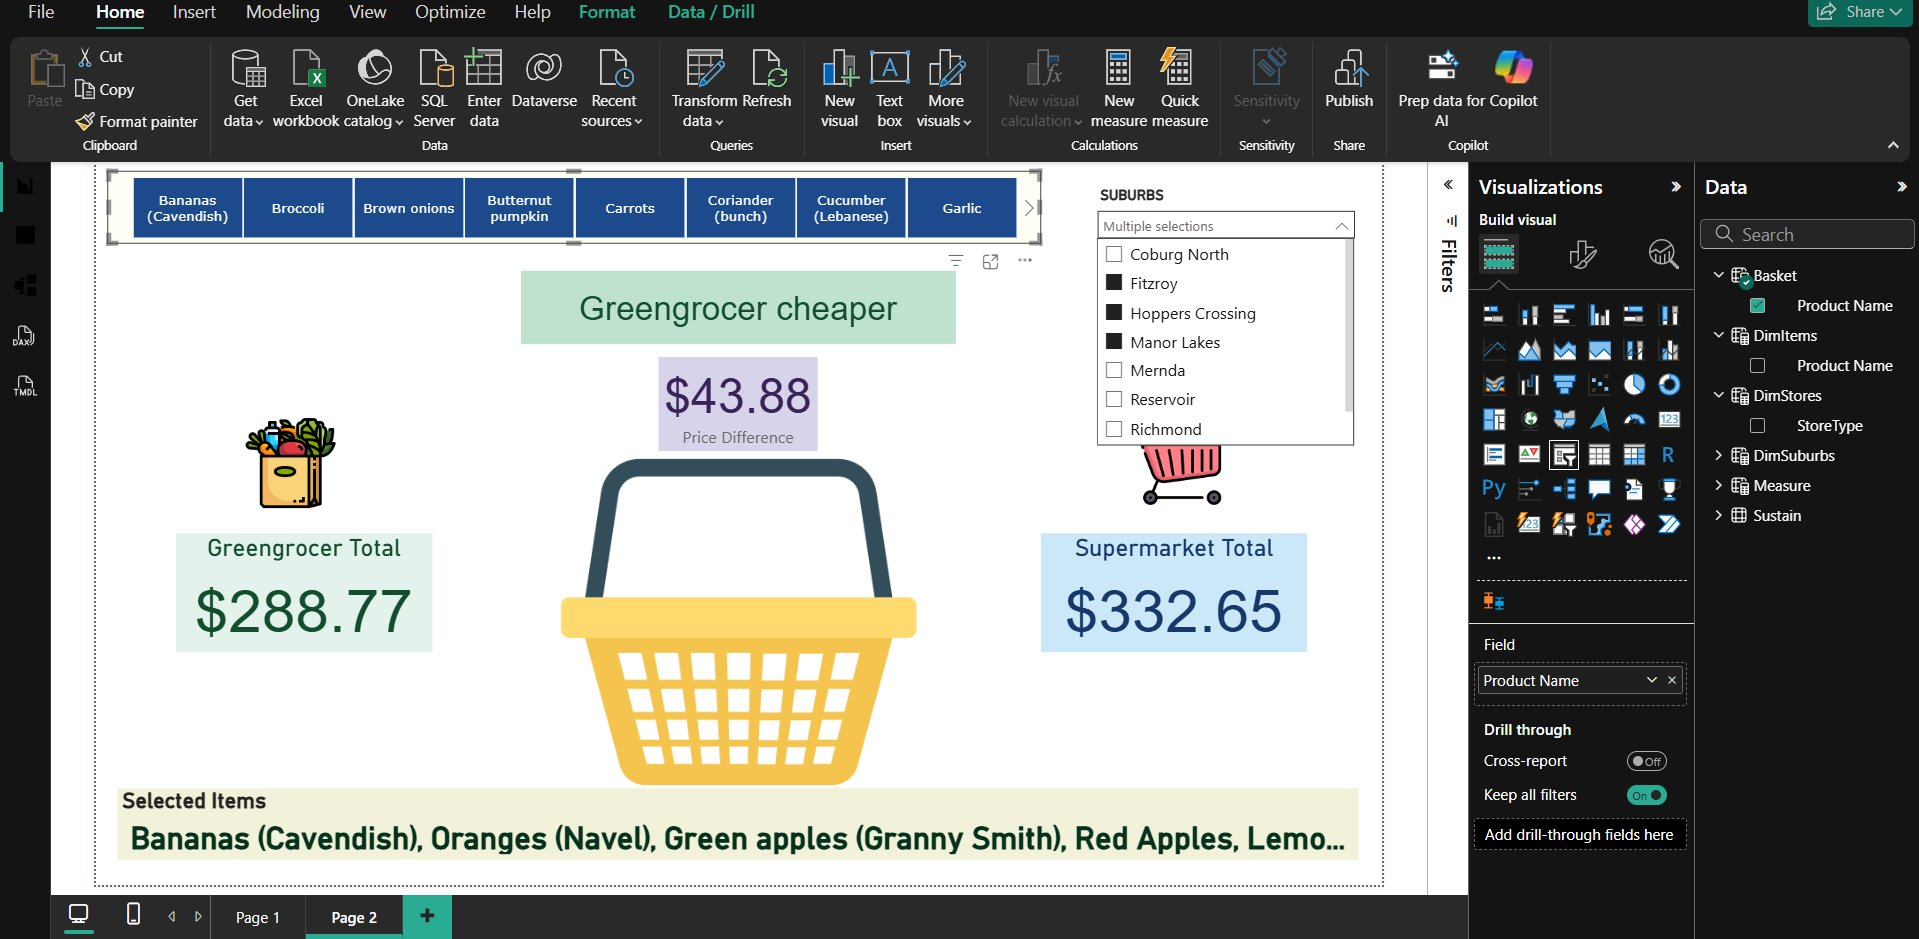

Layout of this report page (visuals, bound fields, positions):
{"tool":"powerbi","page":{"name":"Page 2","canvas":[1280,720],"ordinal":1},"visuals":[{"type":"image","box":[139.3,250,108.2,99.5],"z":0},{"type":"image","box":[1021.3,241.3,103.2,108.2],"z":1000},{"type":"slicer","fields":{"Values":["Basket.Product Name"]},"box":[11.2,8.8,928.8,73.8],"z":2000},{"type":"slicer","fields":{"Values":["DimSuburbs.Suburb"]},"box":[986.2,20,276.2,77.5],"z":3000},{"type":"card","title":"Greengrocer Total","fields":{"Values":["Measure.Basket Greengrocer"]},"box":[79.6,369.5,255,118.2],"z":4000},{"type":"card","title":"Supermarket Total","fields":{"Values":["Measure.Basket Supermarket"]},"box":[940.4,369.5,265,118.2],"z":5000},{"type":"card","fields":{"Values":["Measure.Basket Difference"]},"box":[560,193.8,158.8,93.8],"z":6000},{"type":"card","fields":{"Values":["Measure.Basket Cheaper Label"]},"box":[422.5,108.8,432.5,72.5],"z":7000},{"type":"card","title":"Selected Items","fields":{"Values":["Measure.Selected Items Label"]},"box":[21.1,623.2,1235.3,70.9],"z":8000},{"type":"image","box":[408.8,220,461.2,475],"z":9000}]}

Visuals, with their boxes on the page's 1280x720 design canvas (x1, y1, x2, y2). These are canvas units, not pixel positions in the 1919x939 screenshot, which may show the page scaled, cropped or inside an application window:
image: [139,250,248,350]
image: [1021,241,1124,350]
slicer - Basket.Product Name: [11,9,940,83]
slicer - DimSuburbs.Suburb: [986,20,1262,98]
"Greengrocer Total" card: [80,370,335,488]
"Supermarket Total" card: [940,370,1205,488]
card - Measure.Basket Difference: [560,194,719,288]
card - Measure.Basket Cheaper Label: [422,109,855,181]
"Selected Items" card: [21,623,1256,694]
image: [409,220,870,695]
